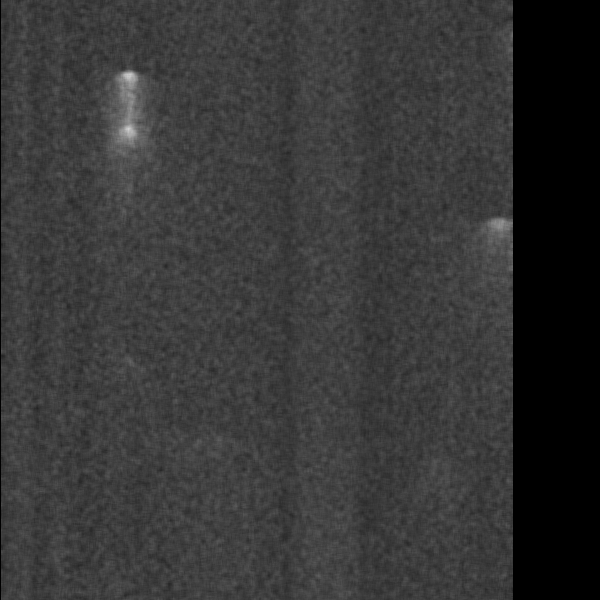spark: (328, 389, 403, 505), (436, 193, 491, 294), (58, 223, 74, 300), (13, 230, 28, 256)
